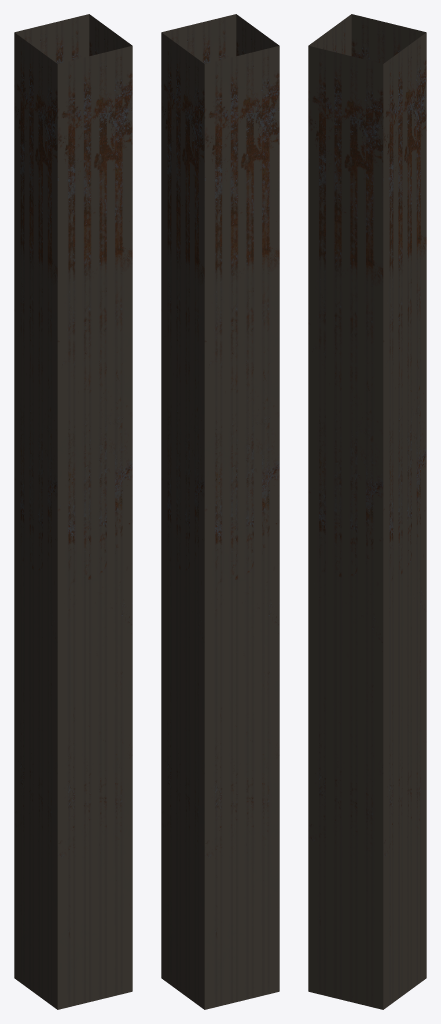
File: Metal_Column_Small_Center.gltf
3 renders of one model, left to right at view 1: azimuth 30°, elevation 25°; view 2: azimuth 210°, elevation 25°; view 3: azimuth 330°, elevation 25°, orthographic.
Parts seen in each view (by area): view 1: Metal_Column_Small_Center; view 2: Metal_Column_Small_Center; view 3: Metal_Column_Small_Center.
Boxes of the visible parts, x1,y1,x2,y2 form: Metal_Column_Small_Center: [14, 14, 132, 1009]; Metal_Column_Small_Center: [161, 14, 279, 1009]; Metal_Column_Small_Center: [308, 14, 426, 1009].
Bounding box in the file's own units: 0.2489 × 3 × 0.249.
Materials: 1 (1 with a texture image).
